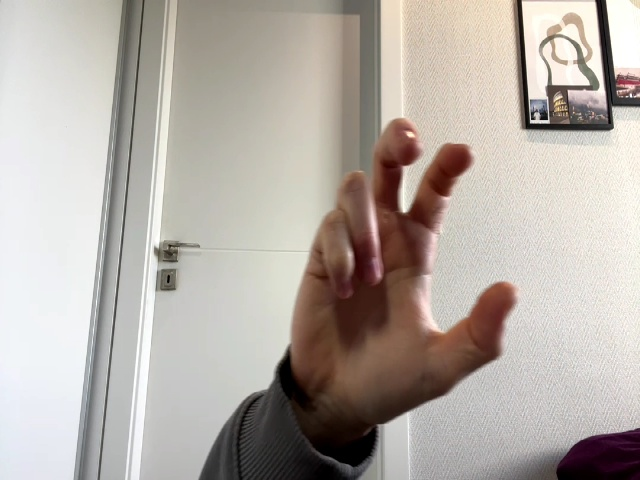CH: (290, 118, 521, 431)
